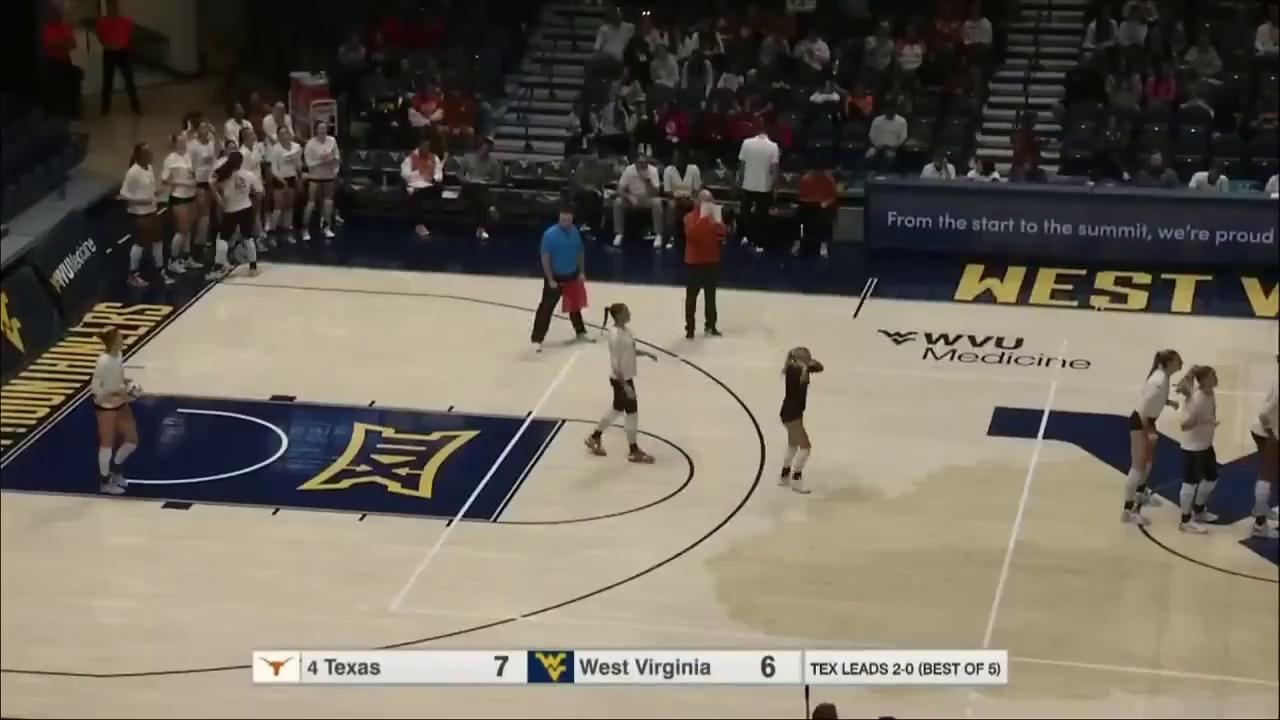player: (587, 304, 662, 465), (1122, 349, 1181, 525), (94, 331, 141, 495), (1177, 364, 1221, 531), (779, 346, 825, 495), (1248, 353, 1280, 537)
refree: (535, 211, 594, 347)
